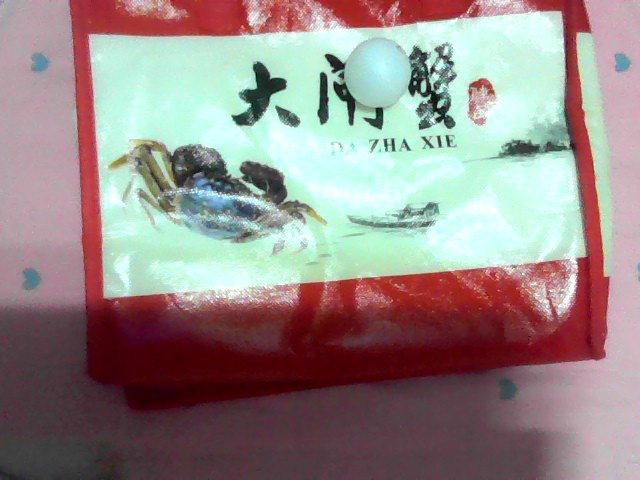ball: (343, 40, 410, 103)
